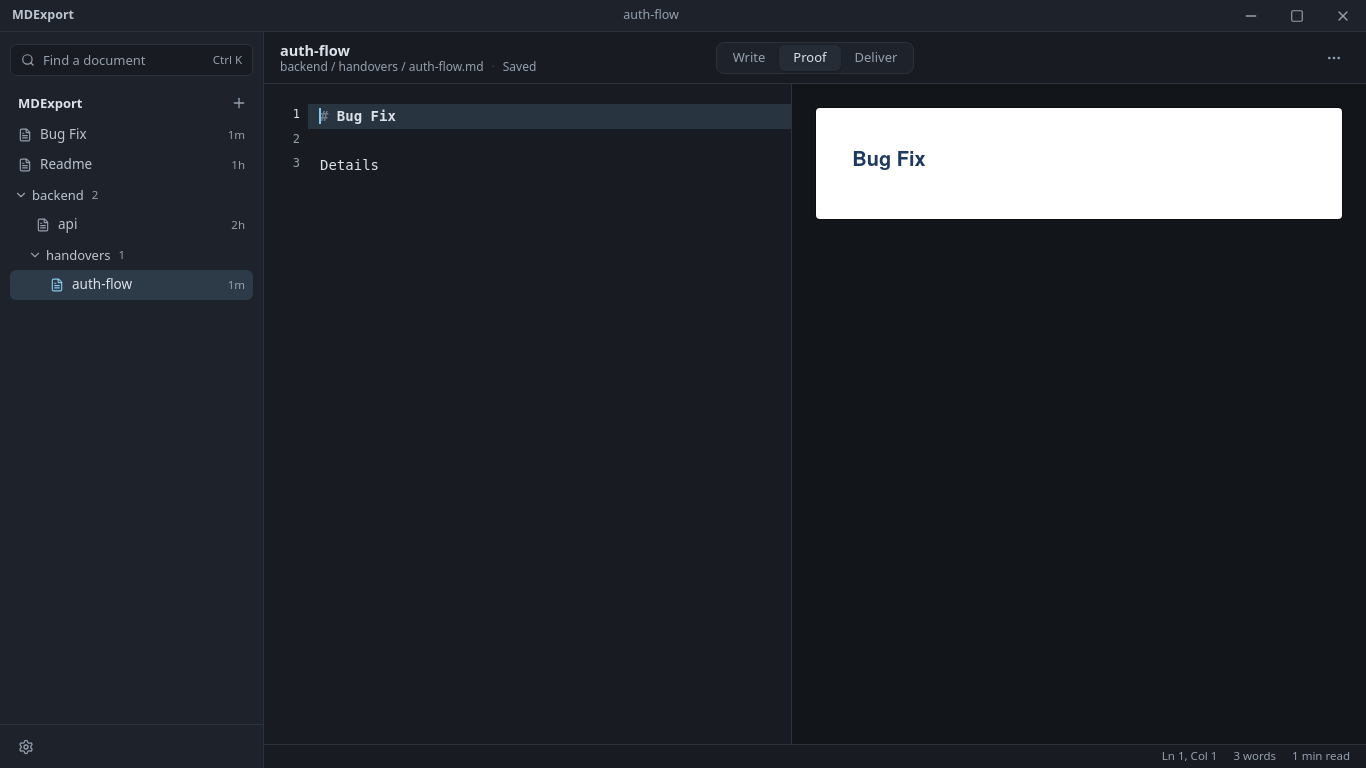
it: Renaming documents › the document actions menu and the quick switcher start a rename too
Click the button named "Document actions" at (1334, 58), box top-left (1318, 42), bottom-right (1350, 74)
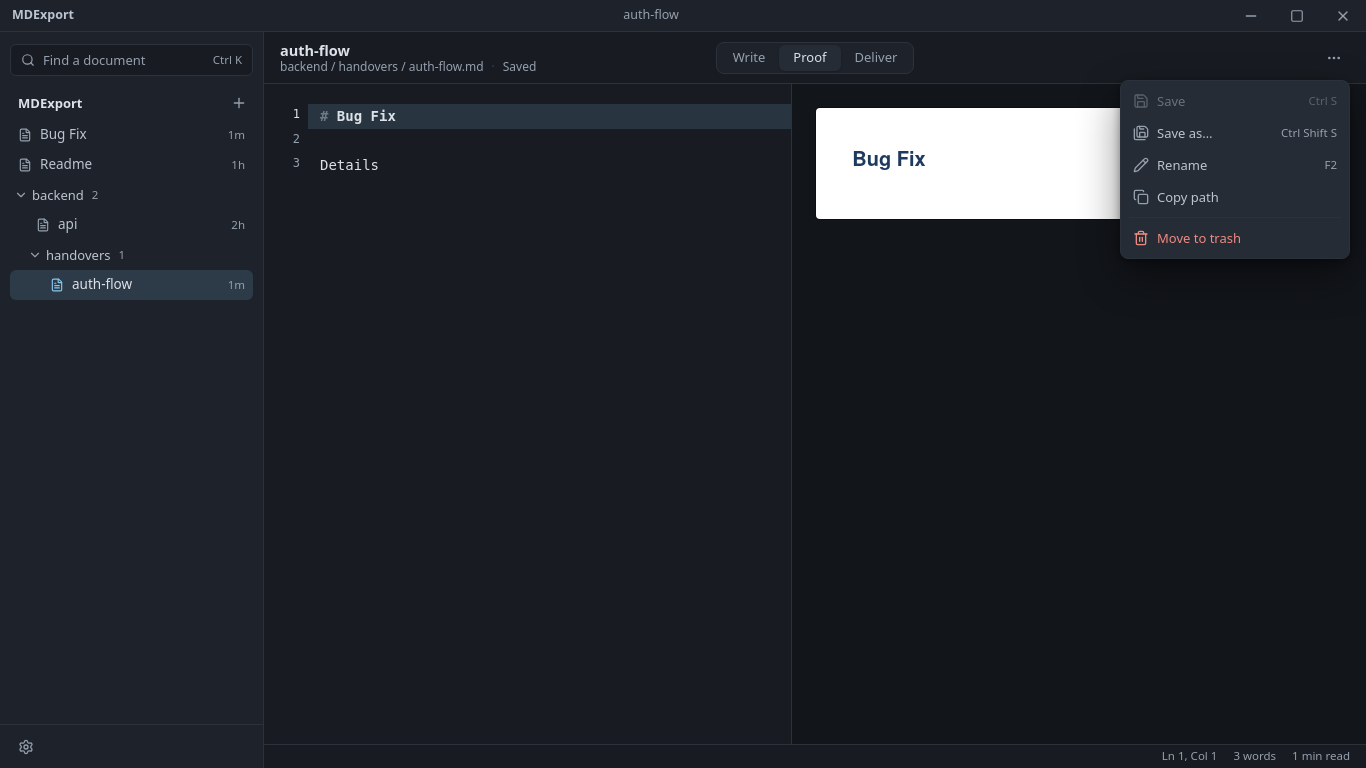
Click the menu item "Rename F2" at (1182, 165), box top-left (1133, 156), bottom-right (1337, 174)
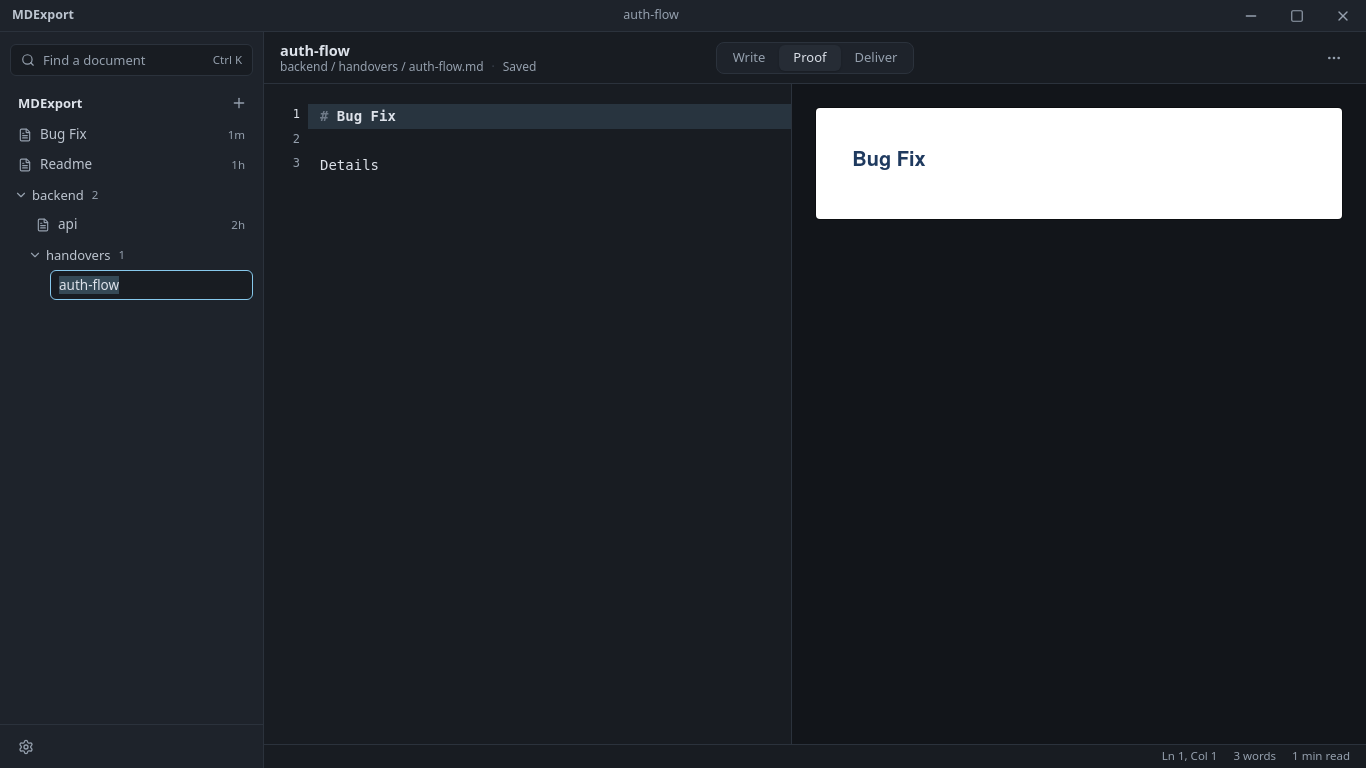
Result: the field named "Document name" holds "auth-flow" at top-left (50, 270), bottom-right (253, 300)
Press Escape
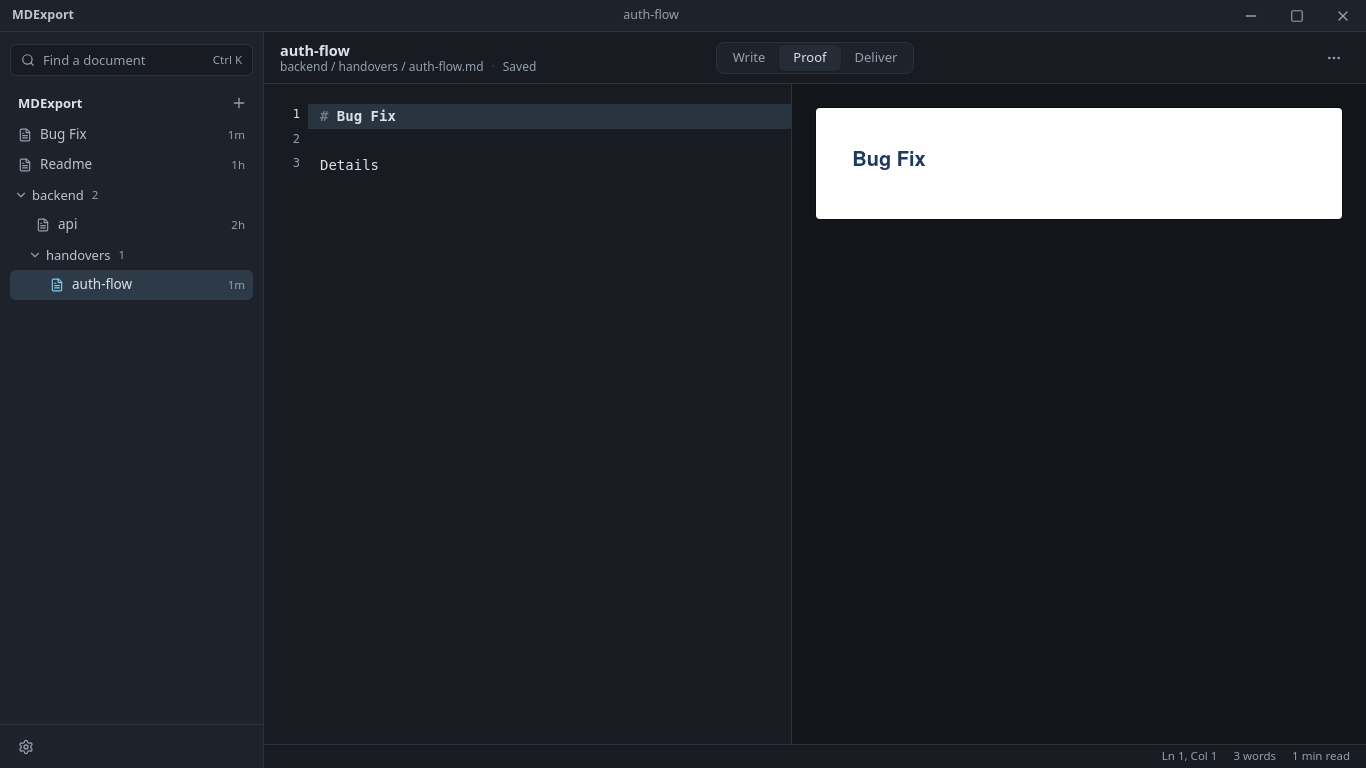
Type keys "{Control>}k{/Control}"
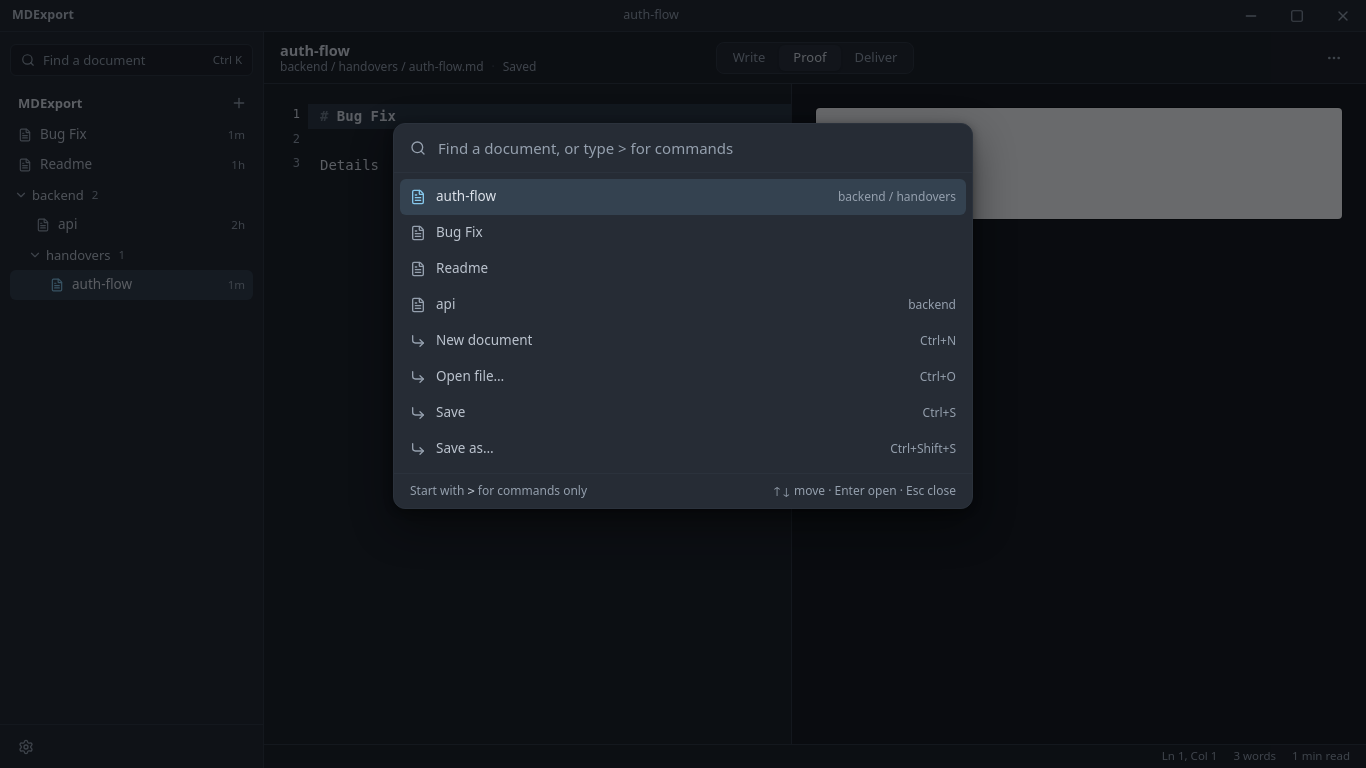
Type ">rename" into the dropdown at (697, 148), box top-left (438, 124), bottom-right (956, 172)
Then press Enter
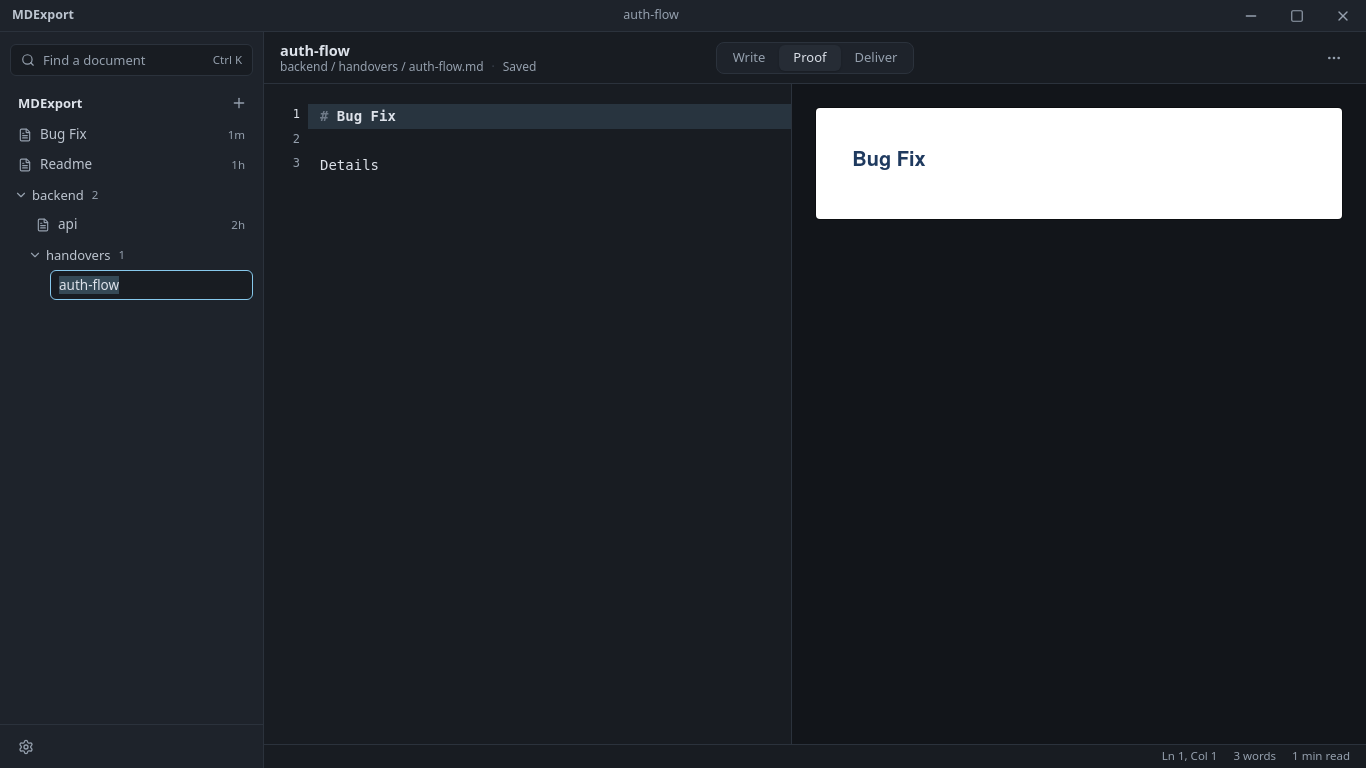
Result: the field named "Document name" is shown at top-left (50, 270), bottom-right (253, 300)
